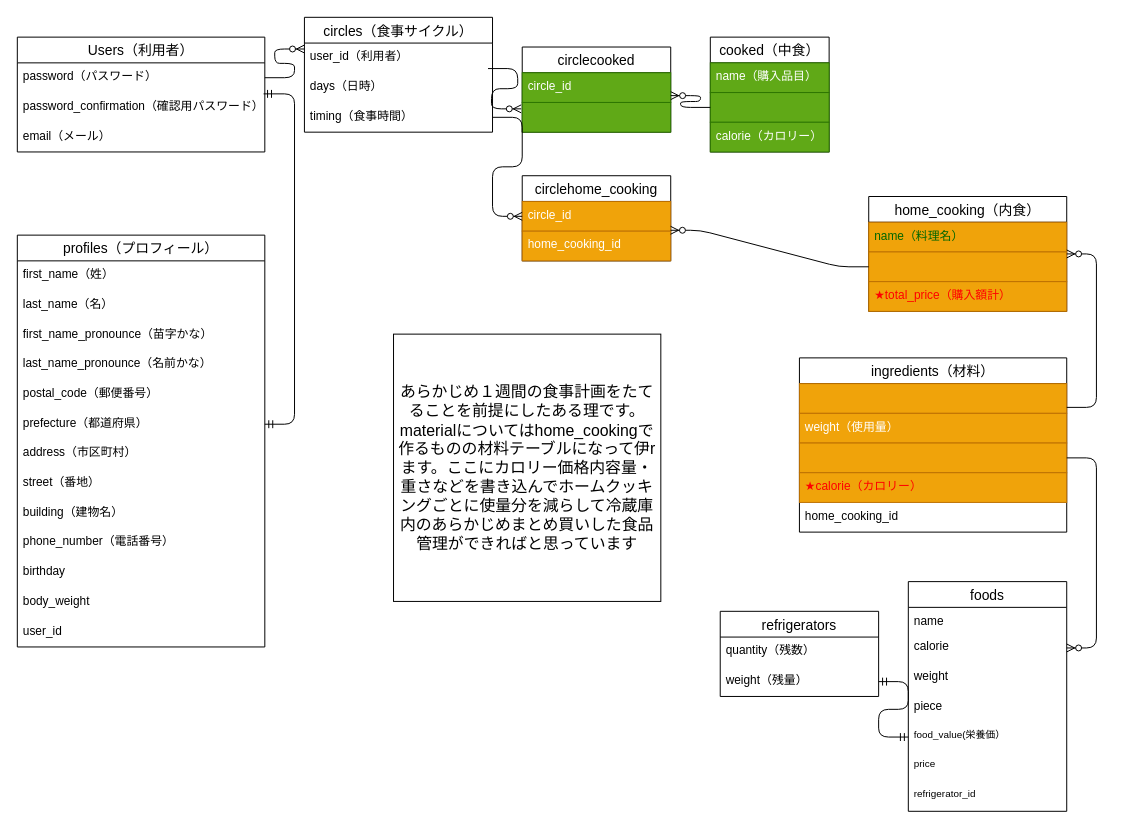
This 1122x832 diagram has some shape labels left out. Each missing label, with the centre of its shape:
"cooked_id" goes at point (596, 116).
"food(食材名）ここは料理名じゃないか" goes at point (932, 398).
"parice（価格）" goes at point (769, 107).
"piece（使用数）" goes at point (932, 457).
"★total_calorie（カロリー計）" goes at point (967, 266).
